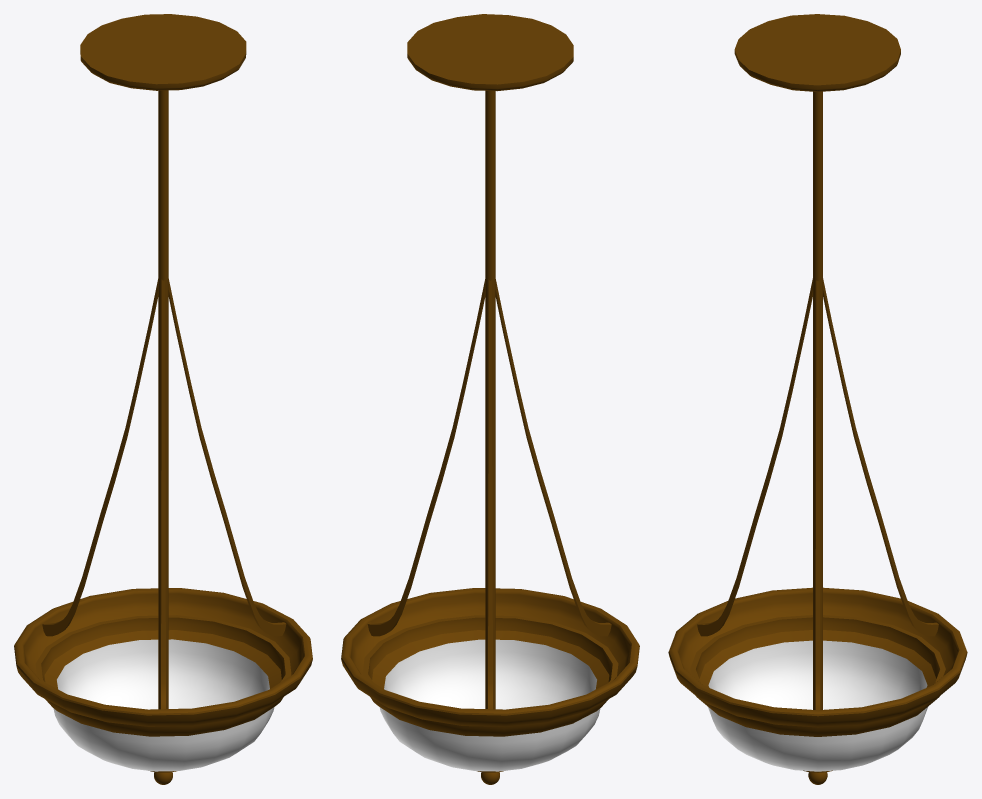
Rendered from hanging_light.glb.
3 renders of one model, left to right at view 1: azimuth 30°, elevation 25°; view 2: azimuth 150°, elevation 25°; view 3: azimuth 270°, elevation 25°, orthographic.
Parts seen in each view (by area): view 1: Object_2, Object_3; view 2: Object_2, Object_3; view 3: Object_2, Object_3.
Boxes of the visible parts, left/top/right/bottom form: Object_2: left=14, top=14, right=312, bottom=784; Object_3: left=53, top=639, right=274, bottom=771; Object_2: left=341, top=14, right=639, bottom=784; Object_3: left=379, top=639, right=600, bottom=771; Object_2: left=668, top=14, right=967, bottom=784; Object_3: left=708, top=640, right=927, bottom=771.
Bounding box in the file's own units: 8.25 × 22.22 × 8.2.
